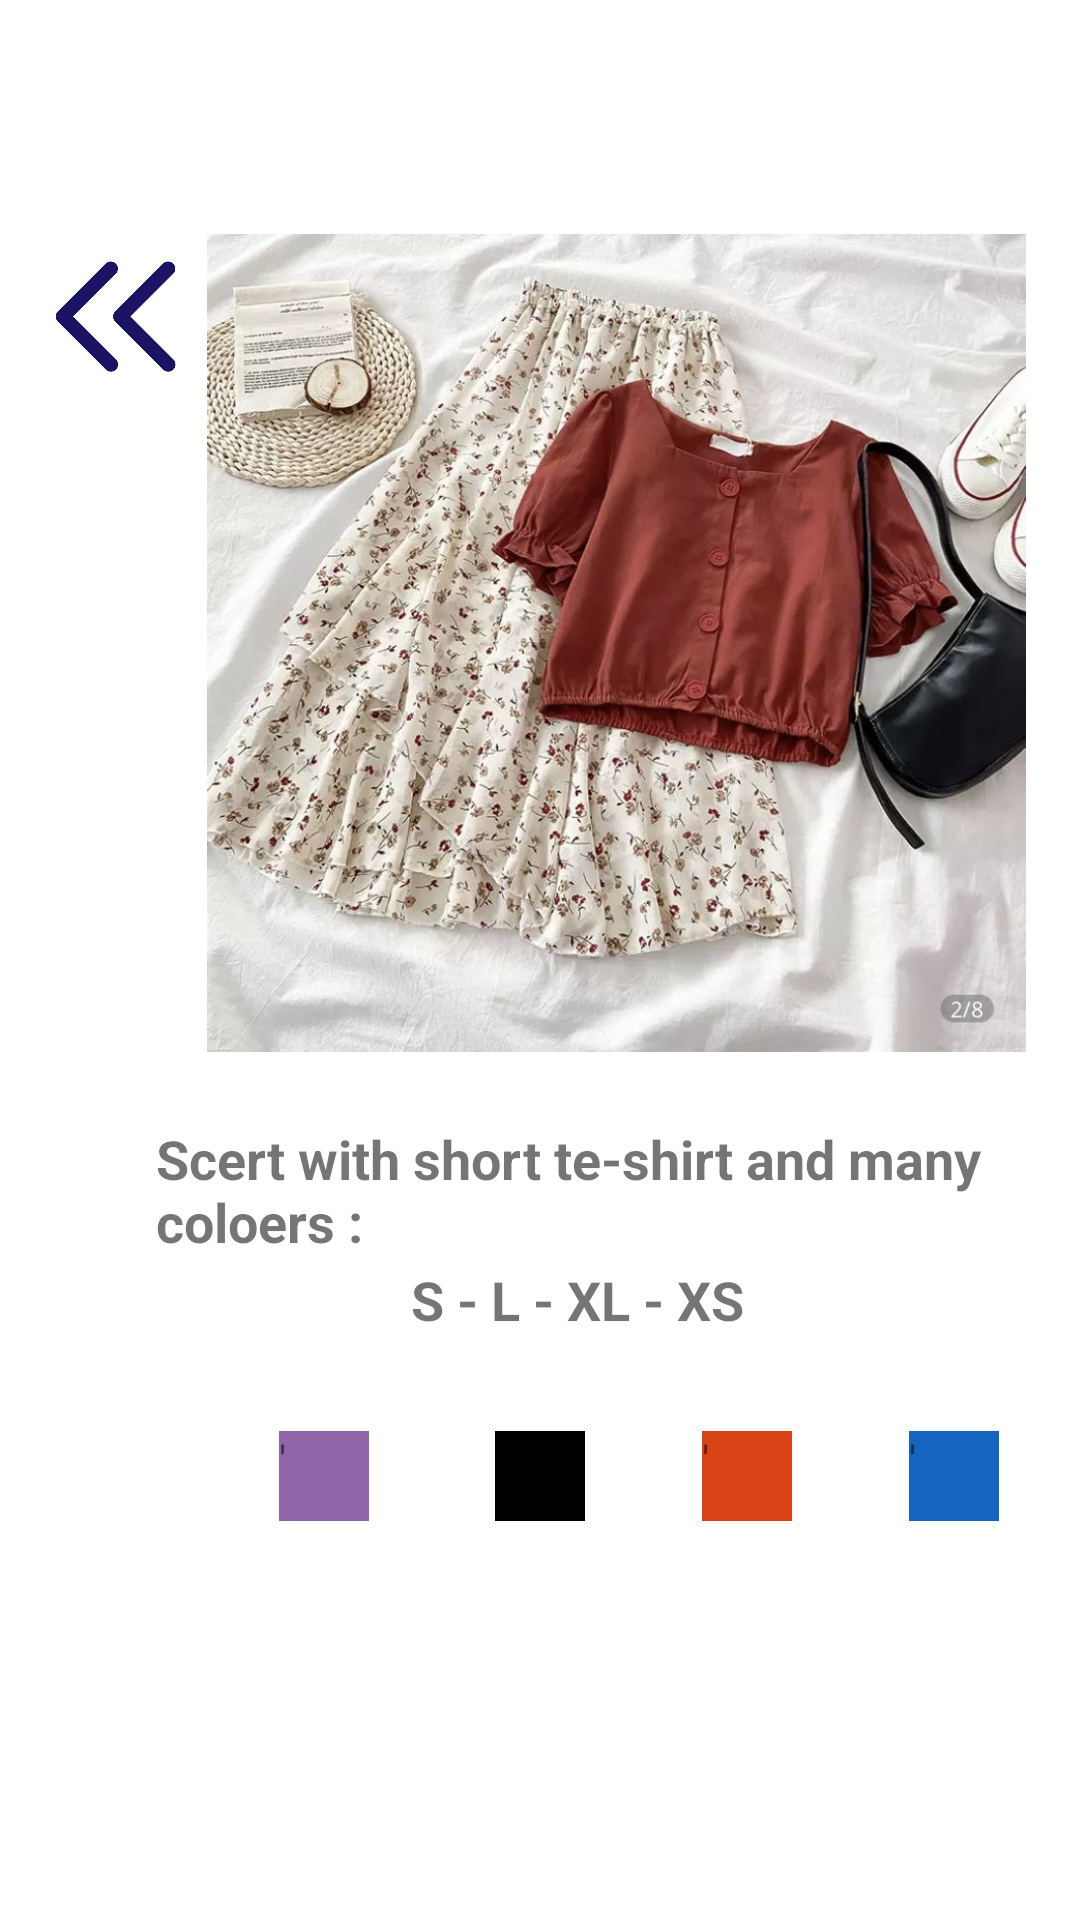

Icons on this 1080 x 1920 Android screen, each with the point to tap as (x,y):
back: (116,316)
